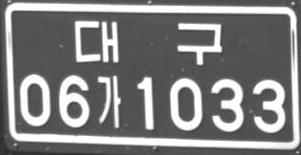0: (169, 77, 203, 131), (19, 73, 51, 126)
1: (133, 76, 163, 130)
3: (252, 78, 287, 133), (211, 76, 244, 131)
6: (58, 75, 90, 127)
가: (95, 75, 123, 127)
대구_D: (74, 19, 224, 65)
